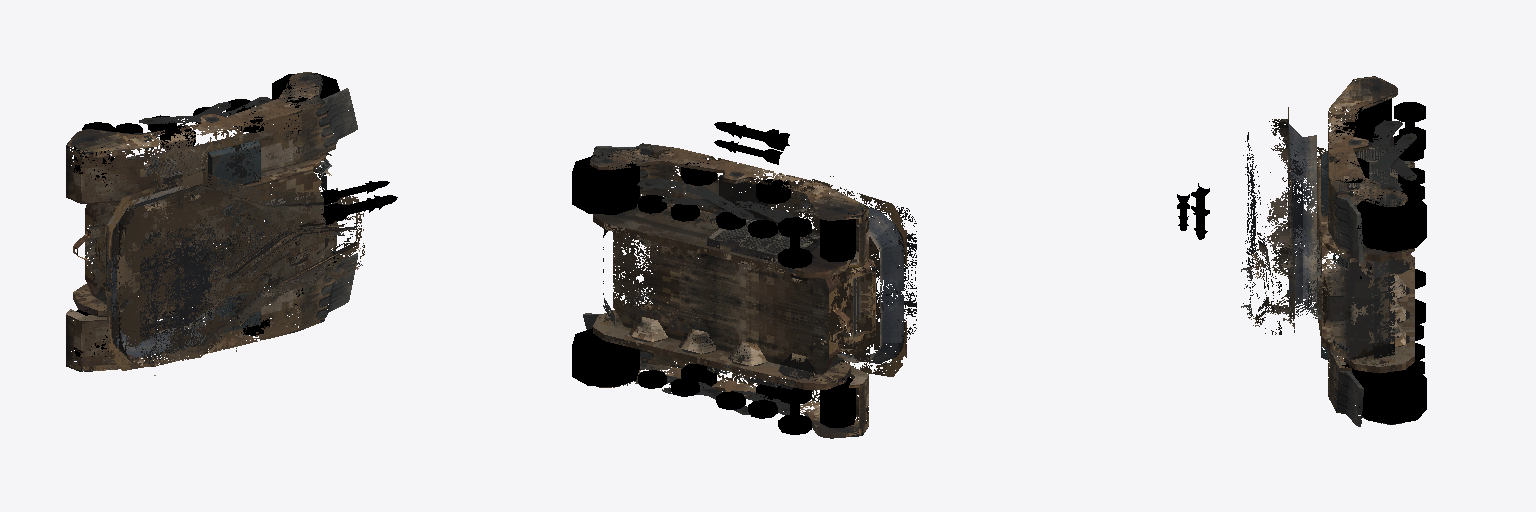
The picture shows the model from 3 angles: view 1: azimuth 30°, elevation 25°; view 2: azimuth 150°, elevation 25°; view 3: azimuth 270°, elevation 25°; orthographic projection.
Visible parts, largest first — view 1: mtl_veh_t6_drone_tank, mtl_veh_t6_drone_tank_wheels, mtl_veh_t6_drone_tank_missile; view 2: mtl_veh_t6_drone_tank, mtl_veh_t6_drone_tank_wheels, mtl_veh_t6_drone_tank_missile; view 3: mtl_veh_t6_drone_tank, mtl_veh_t6_drone_tank_wheels, mtl_veh_t6_drone_tank_missile.
Part boxes in pixels (x1,y1,x2,y2): mtl_veh_t6_drone_tank: (66, 72, 364, 375); mtl_veh_t6_drone_tank_wheels: (74, 73, 339, 357); mtl_veh_t6_drone_tank_missile: (321, 181, 397, 224); mtl_veh_t6_drone_tank: (583, 143, 916, 438); mtl_veh_t6_drone_tank_wheels: (572, 155, 855, 434); mtl_veh_t6_drone_tank_missile: (714, 122, 789, 164); mtl_veh_t6_drone_tank: (1241, 76, 1416, 426); mtl_veh_t6_drone_tank_wheels: (1336, 98, 1426, 424); mtl_veh_t6_drone_tank_missile: (1177, 183, 1209, 239).
Bounding box in the file's own units: 104 × 76.81 × 94.9.
4 materials, 2 textured.